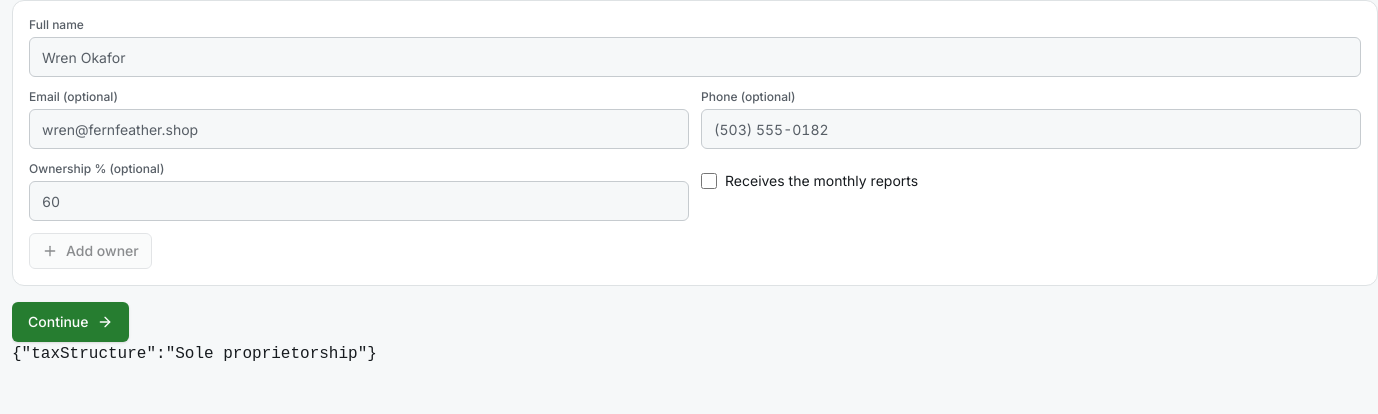
Scenario: owner-count guards on the owners screen (I2, 00:26:10) › sole prop: Continue with no owners blocks with the plain-language message
The image size is (1378, 414).
Click the button with test id "continue".
click(70, 322)  # box [12,302,128,342]
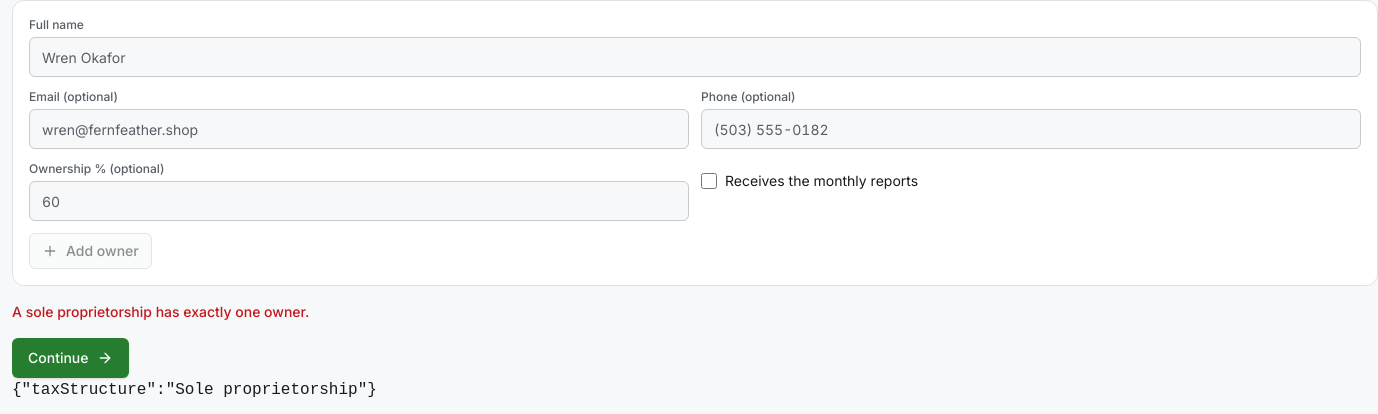
Expected: the message reads "A sole proprietorship has exactly one owner.", [12,303,309,320]
